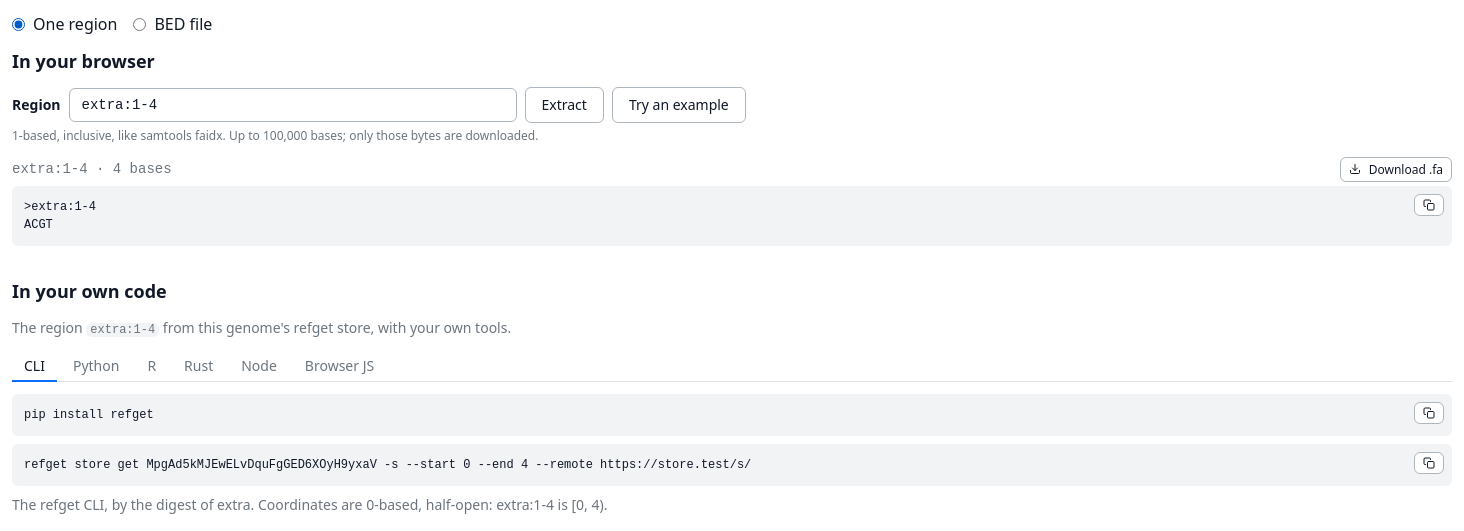
Test case: ExtractPanel › keeps the code in step with the region box
Expected: the text ">extra:1-4 ACGT" is shown, [12,186,1452,246]
Replace the text in the field labelled "Region" with "rCRSd:11-20" at coordinates (292, 105), box [68,88,516,122]
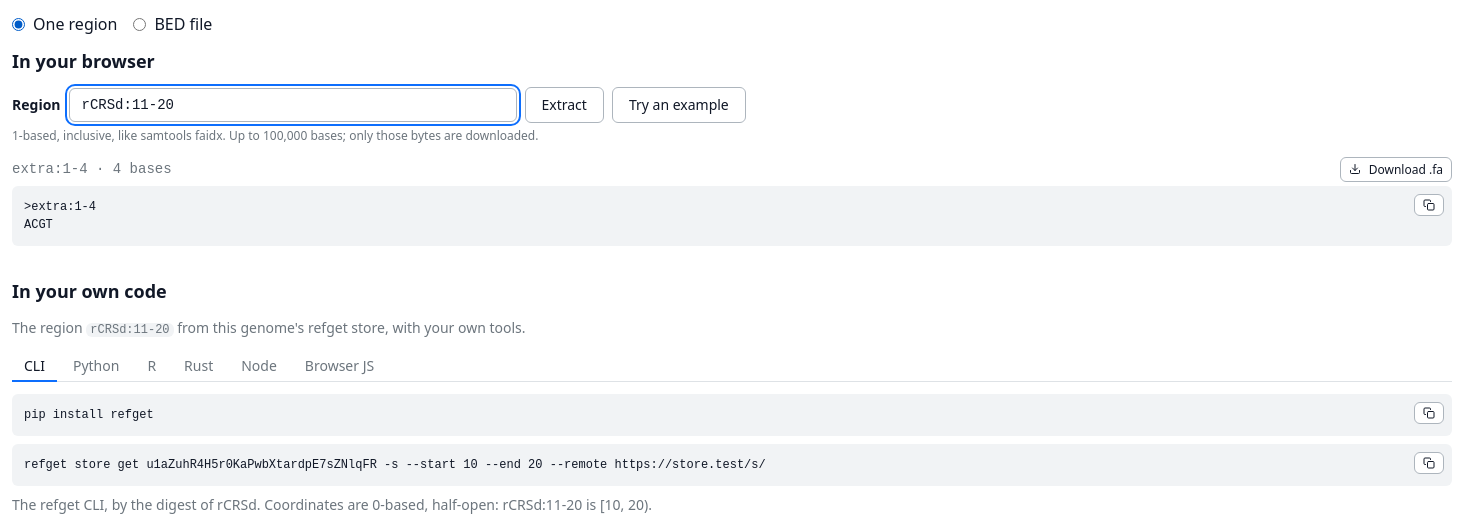
Result: the text "--start 10 --end 20 " is shown at [24,458,766,472]
